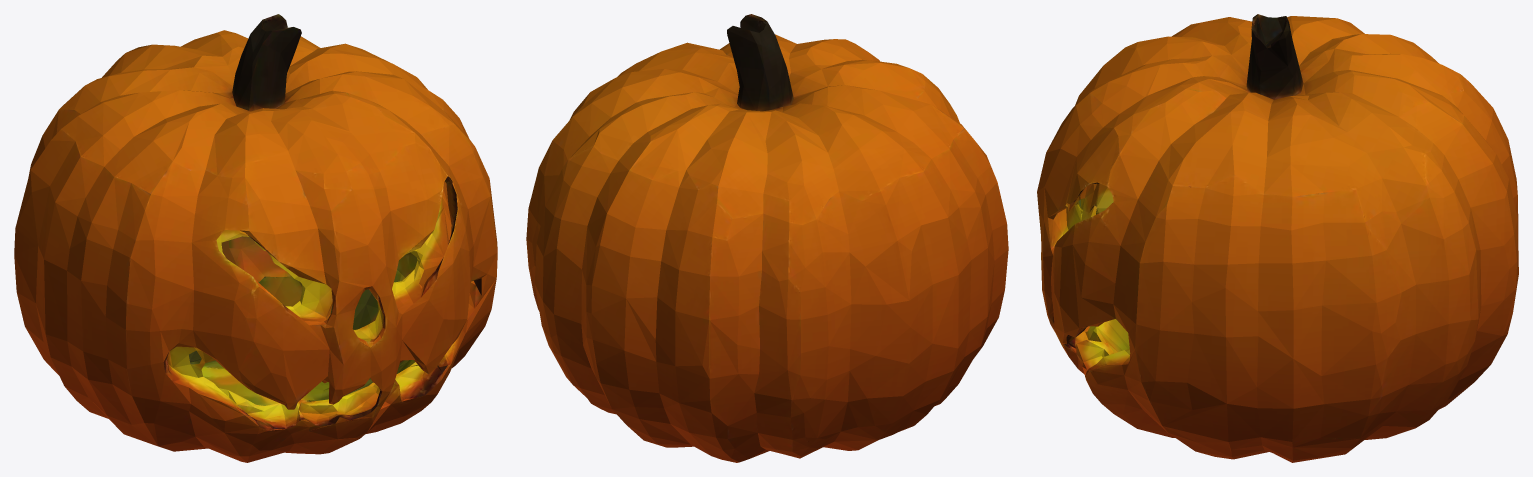
File: pumpkin_jackolantern_angry.glb
3 views of the same model, side by side, from view 1: azimuth 30°, elevation 25°; view 2: azimuth 150°, elevation 25°; view 3: azimuth 270°, elevation 25° (orthographic). The views are drawn at different scales.
Visible parts, largest first — view 1: geometry_0; view 2: geometry_0; view 3: geometry_0.
Part boxes in pixels (bbox=[...]): geometry_0: bbox=[14, 14, 497, 462]; geometry_0: bbox=[526, 14, 1008, 462]; geometry_0: bbox=[1037, 14, 1518, 462].
Bounding box in the file's own units: 0.495 × 0.4513 × 0.4912.
1 material, 1 textured.
